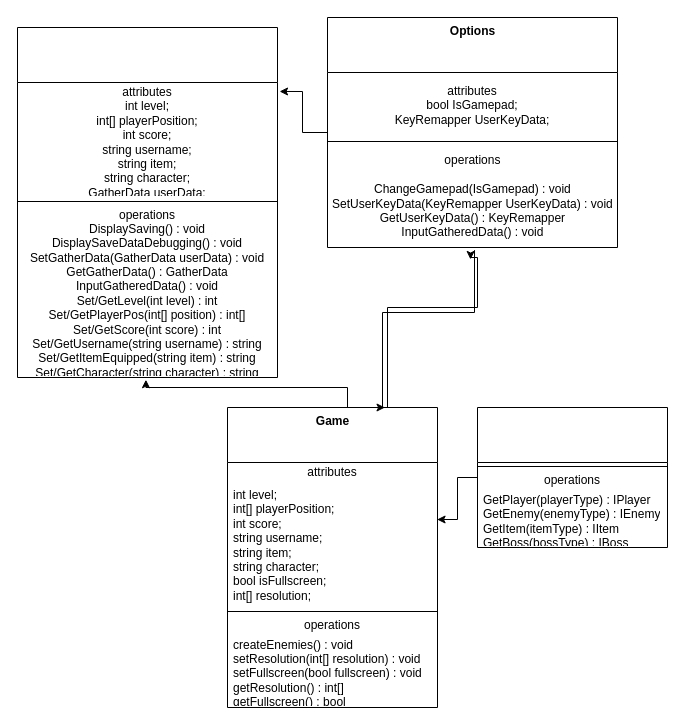
Some shapes in this 685 by 726 pixel diagram are drawn without their labels. Here are the shapes that lost their labels. From the top down, the box of each, then its label:
(16, 26, 278, 378): SaveManager
(476, 406, 668, 548): AbstractFactory
